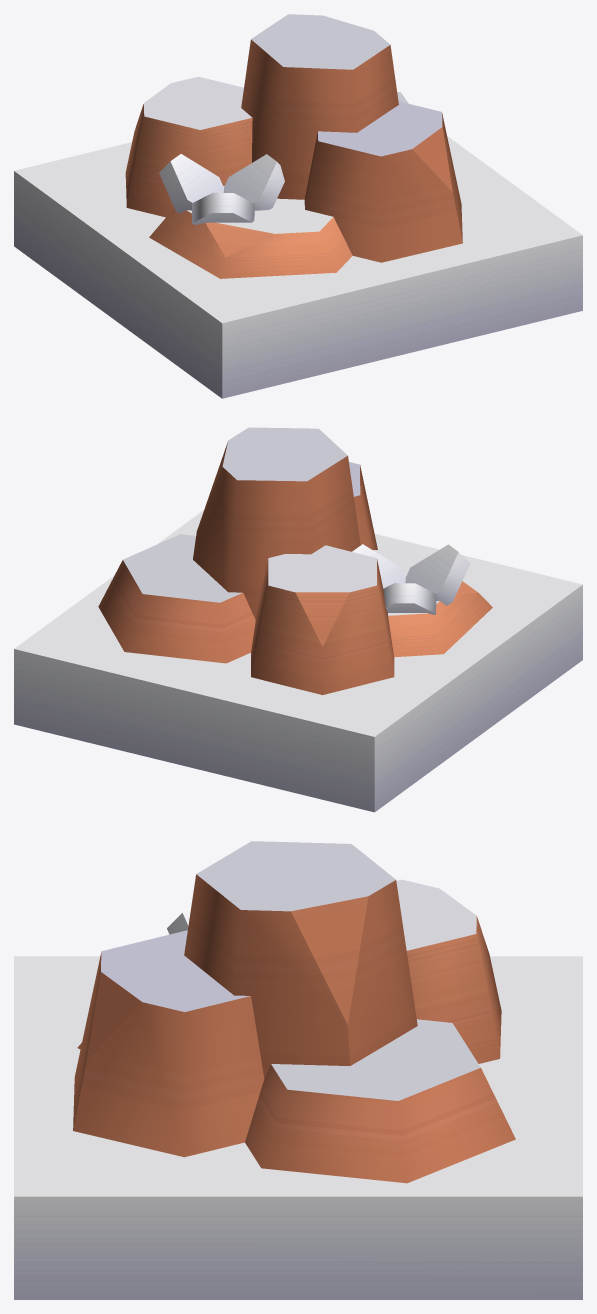
The model's file is snow-tile-rock.glb.
3 views of the same model, one above another, from view 1: azimuth 30°, elevation 25°; view 2: azimuth 150°, elevation 25°; view 3: azimuth 270°, elevation 25° (orthographic). The views are drawn at different scales.
Visible parts, largest first — view 1: snow-tile-rock; view 2: snow-tile-rock; view 3: snow-tile-rock.
Boxes of the visible parts, x1,y1,x2,y2 form: snow-tile-rock: (14,14,582,398); snow-tile-rock: (14,427,582,812); snow-tile-rock: (14,841,582,1299).
Size of the model in its own units: 1 by 0.6146 by 1.
Materials: 1 (1 with a texture image).
